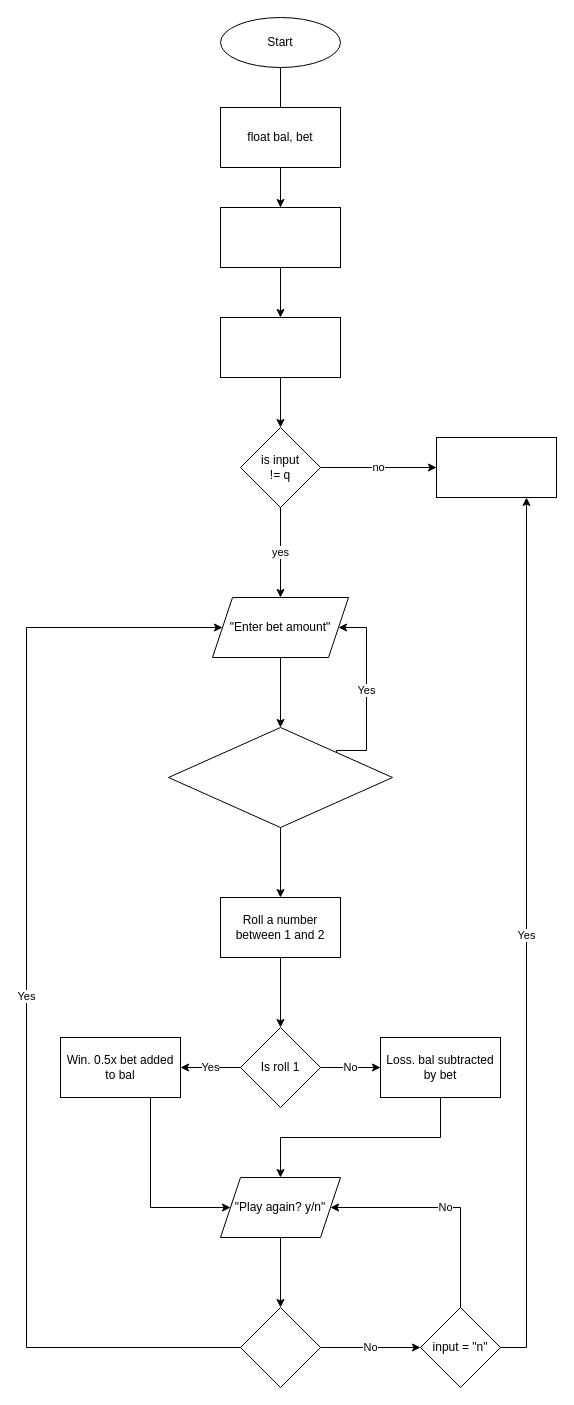
Some shapes in this 574 by 1405 pixel diagram are drawn without their labels. The centre of each missing label's shape, as x and y in pixels:
*game rules* "continue to game?" "Balance is...": the point at 280,347
input = "y": the point at 280,1347
int flip: the point at 280,237
is bet > balance or is bet < 0 or is bet a non number: the point at 280,777
quit: the point at 496,467
